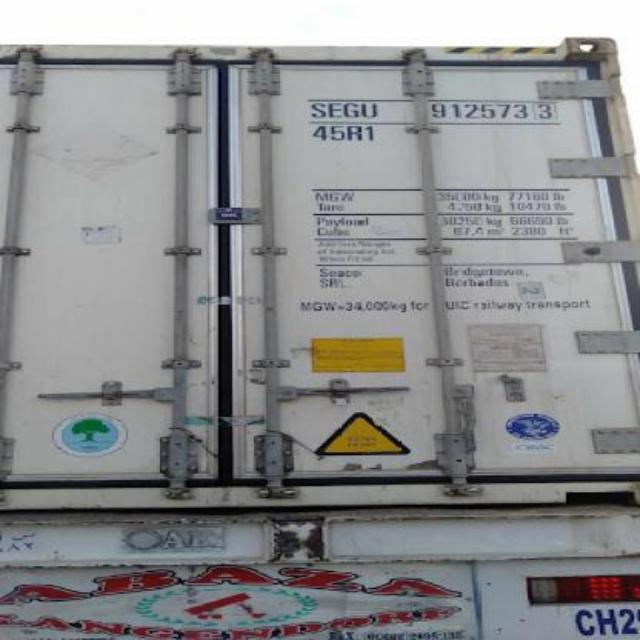1: (448, 102, 464, 122)
2: (462, 104, 480, 118)
3: (512, 104, 532, 120), (534, 104, 552, 120)
5: (478, 102, 498, 118)
7: (496, 103, 514, 121)
9: (430, 102, 448, 118)
E: (328, 103, 346, 119)
G: (342, 102, 360, 118)
S: (308, 102, 330, 118)
U: (361, 102, 382, 118)
